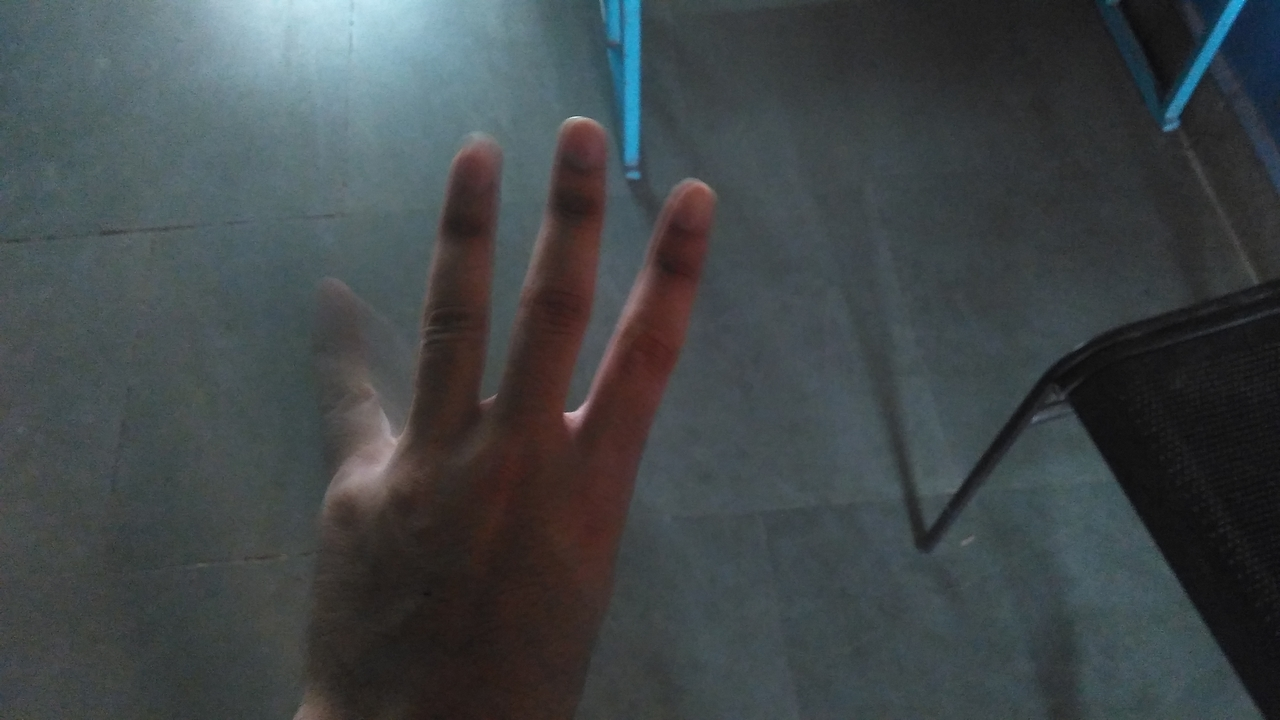fingertip: (654, 170, 724, 232), (546, 110, 612, 172), (438, 130, 508, 186), (292, 277, 359, 312)
